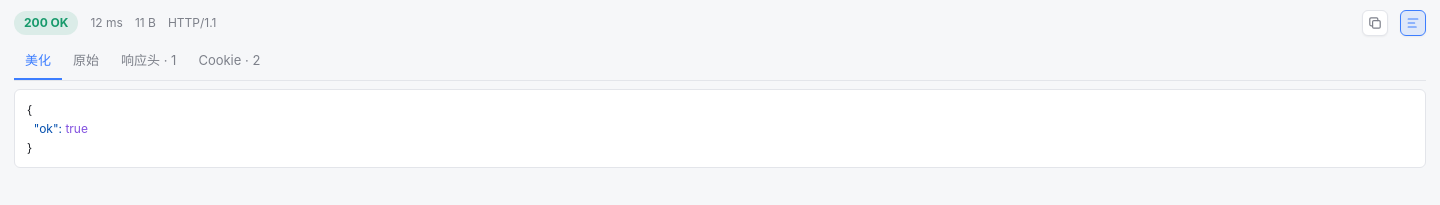
Test: the cookie tab › lists what the request carried and where each cookie came from
The width and height of the screenshot is (1440, 205).
Click the button "Cookie · 2". click: point(229, 62)
box: [187, 44, 271, 80]
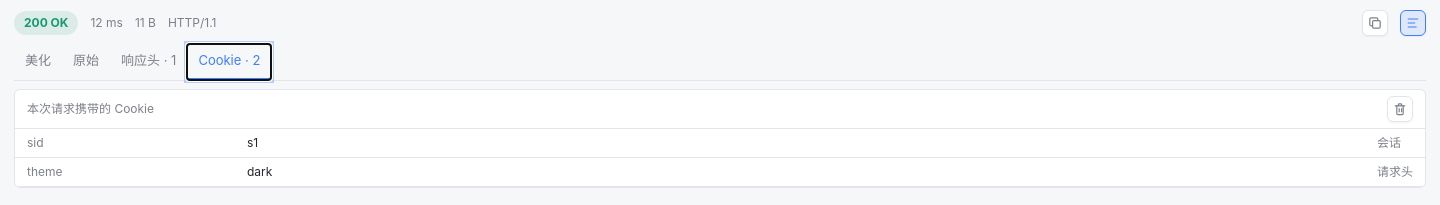
Expected: the text "sid" is shown, [15, 128, 235, 157]
Expected: the text "s1" is shown, [235, 128, 1365, 157]
Expected: the text "会话" is shown, [1365, 128, 1425, 157]
